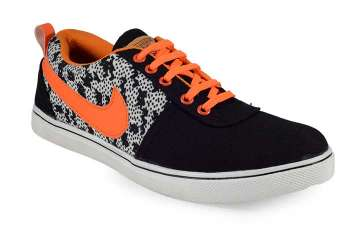Footwear: (25, 17, 337, 206)
